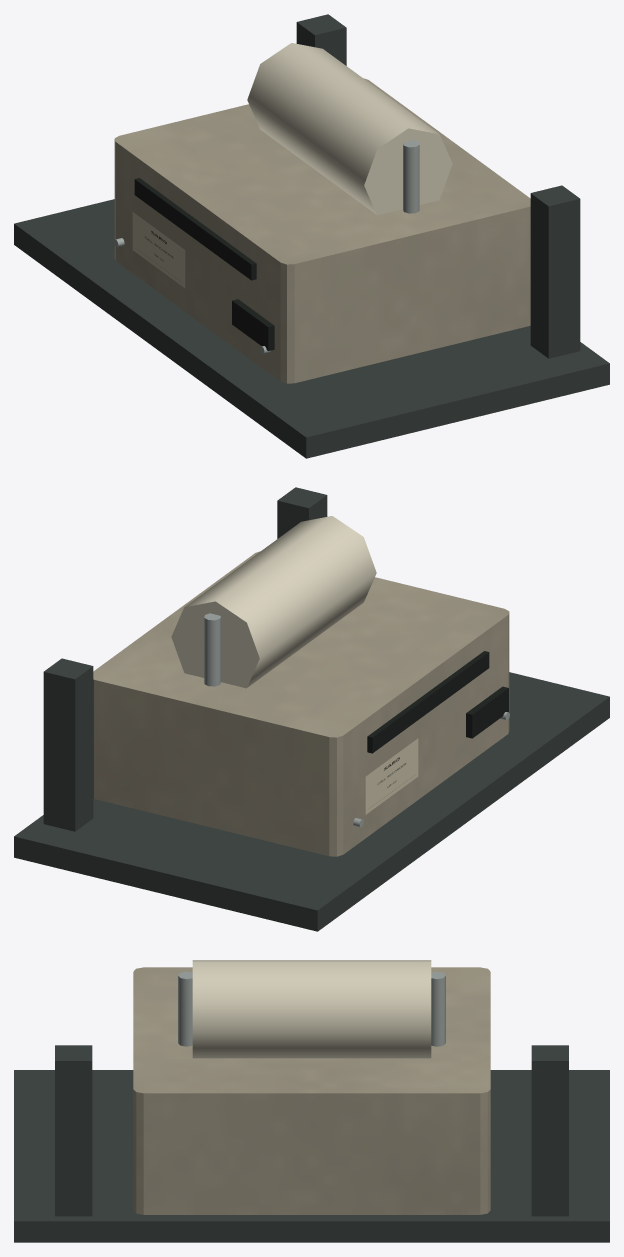
Rendered from SM_ArchiveProps_CallRecorder_LOD1.glb.
3 renders of one model, top to bottom at view 1: azimuth 30°, elevation 25°; view 2: azimuth 150°, elevation 25°; view 3: azimuth 270°, elevation 25°, orthographic.
Parts seen in each view (by area): view 1: SM_ArchiveProps_CallRecorder_LOD1; view 2: SM_ArchiveProps_CallRecorder_LOD1; view 3: SM_ArchiveProps_CallRecorder_LOD1.
Boxes of the visible parts, x1,y1,x2,y2 form: SM_ArchiveProps_CallRecorder_LOD1: (14, 14, 609, 458); SM_ArchiveProps_CallRecorder_LOD1: (14, 487, 609, 931); SM_ArchiveProps_CallRecorder_LOD1: (14, 960, 609, 1242).
Size of the model in its own units: 0.24 by 0.166 by 0.4.
Materials: 6 (2 with a texture image).
